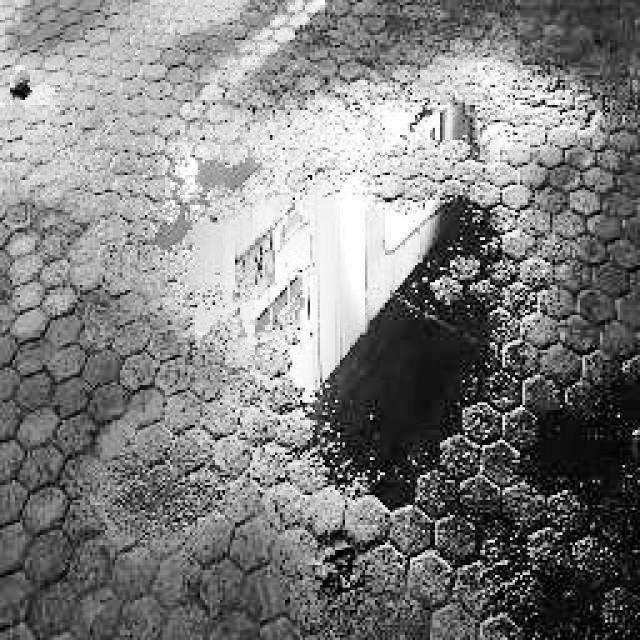Pothole: (174, 180, 516, 514)
